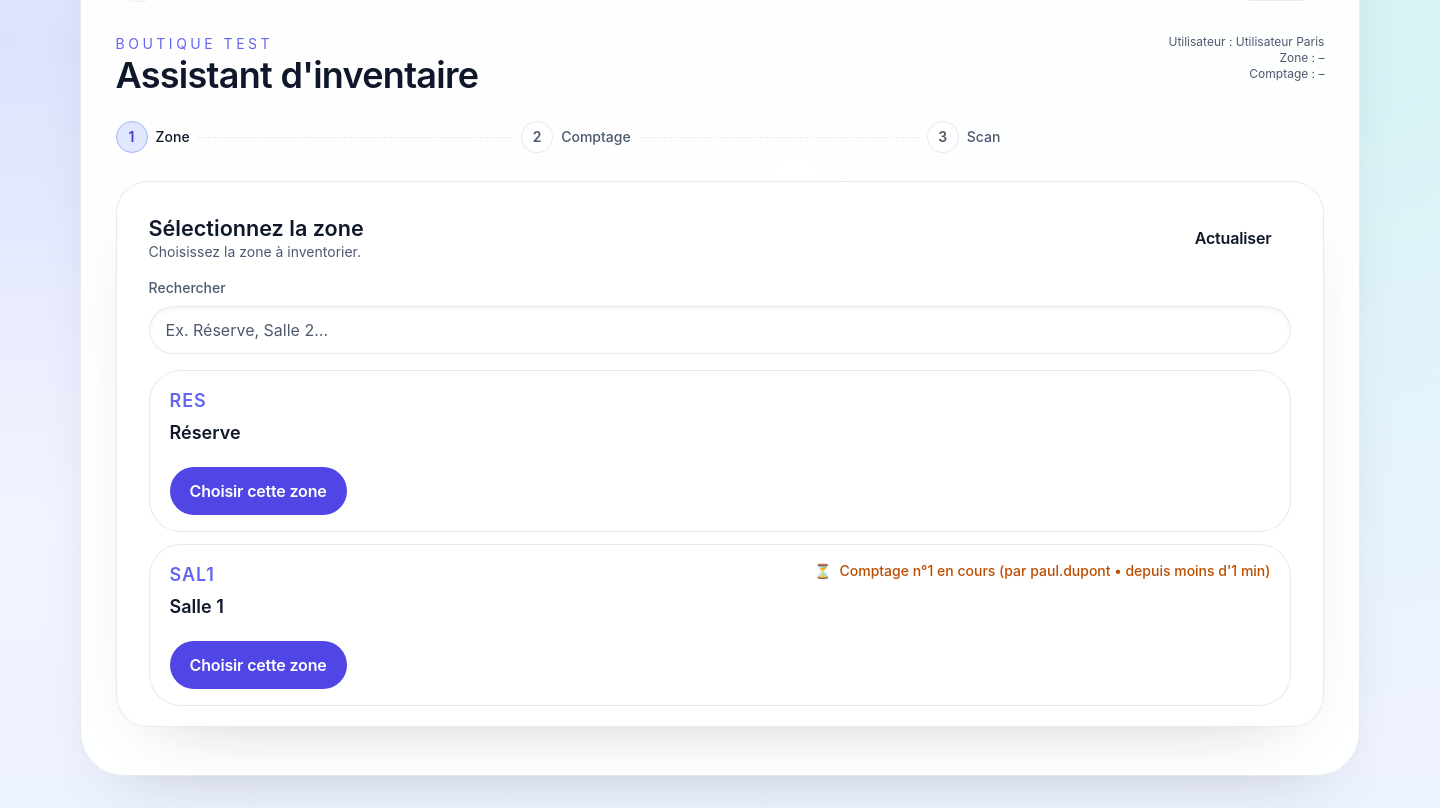
Workflow d'inventaire › bloque le comptage n°2 tant que le n°1 est en cours
The width and height of the screenshot is (1440, 808).
(page scrolled)
Expected: the text "Comptage n°1 en cours" is shown, [840,562,1270,579]
Click the button with test id "btn-select-zone": click(258, 665) [170,641,347,689]
(page scrolled)
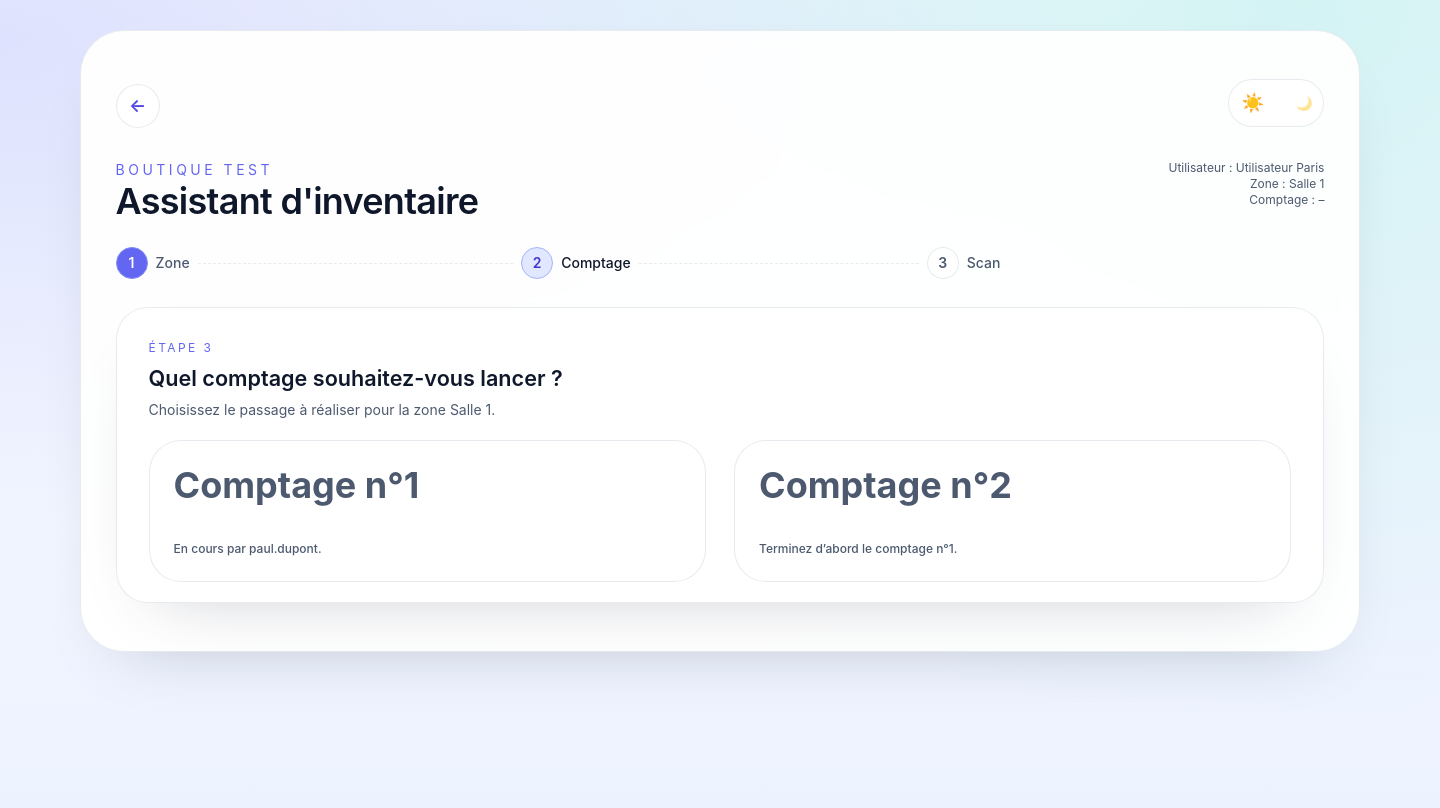
Expected: the button with test id "btn-count-type-1" is disabled, [148,440,706,582]
Expected: the button with test id "btn-count-type-2" is disabled, [734,440,1292,582]
Expected: the text "Terminez d’abord le comptage n°1." is shown, [759,541,958,557]
